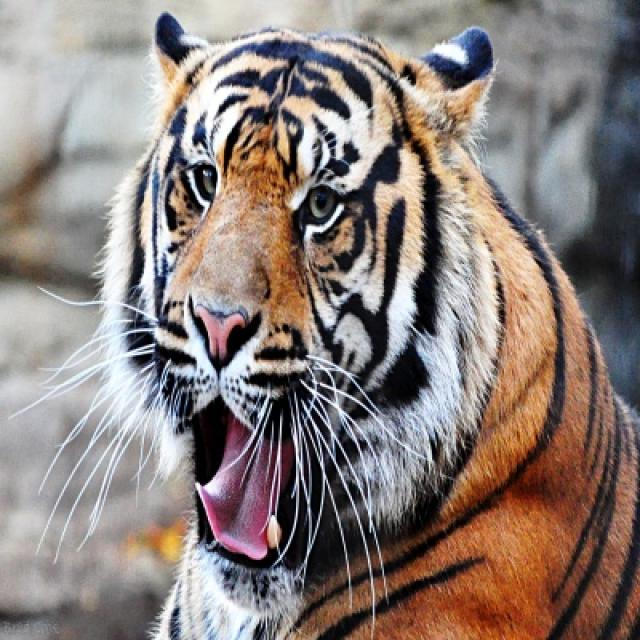Tiger: (121, 11, 638, 631)
